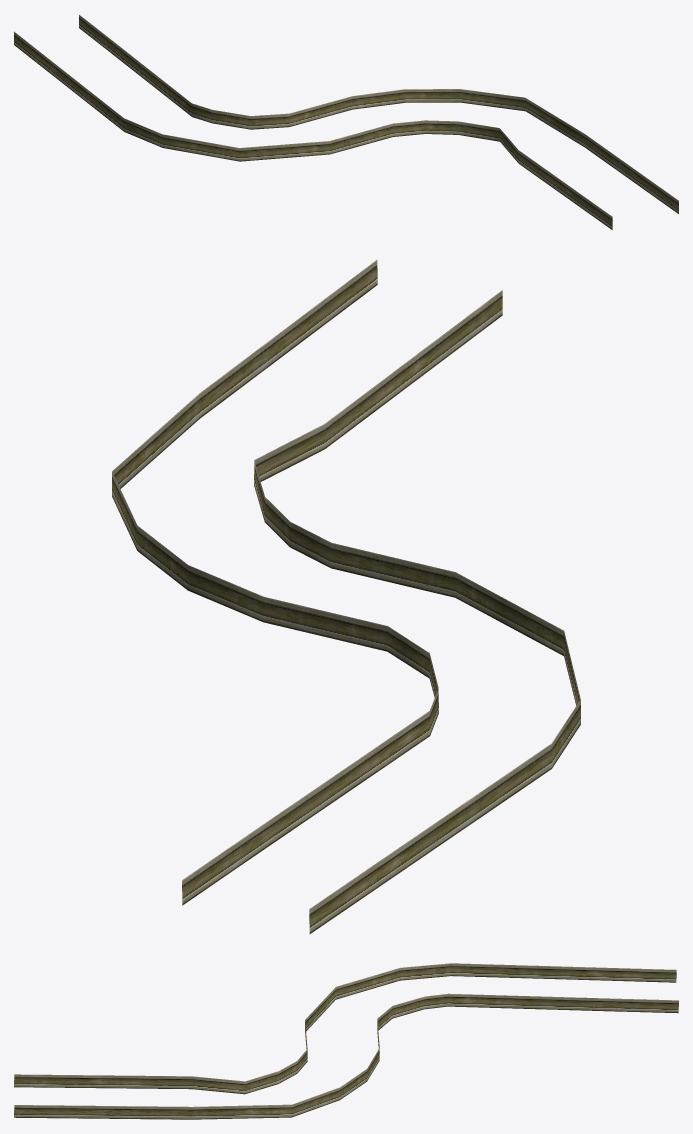
The model's file is CH09_SMAUG_PLAYSURFACE_LAIR107.fbx.
The picture shows the model from 3 angles, top to bottom: view 1: azimuth 30°, elevation 25°; view 2: azimuth 150°, elevation 25°; view 3: azimuth 270°, elevation 25°; orthographic projection. The views are drawn at different scales.
Visible parts, largest first — view 1: CH09_SMAUG_PLAYSURFACE_LAIR107; view 2: CH09_SMAUG_PLAYSURFACE_LAIR107; view 3: CH09_SMAUG_PLAYSURFACE_LAIR107.
Part boxes in pixels (x1,y1,x2,y2): CH09_SMAUG_PLAYSURFACE_LAIR107: (14,15,678,229); CH09_SMAUG_PLAYSURFACE_LAIR107: (112,260,580,933); CH09_SMAUG_PLAYSURFACE_LAIR107: (14,963,678,1119).
Size of the model in its own units: 192649 by 13712 by 362944.
Materials: 1 (1 with a texture image).
